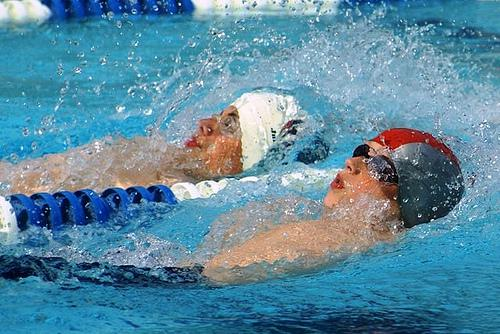swimmer: (200, 126, 466, 286), (6, 84, 318, 202)
